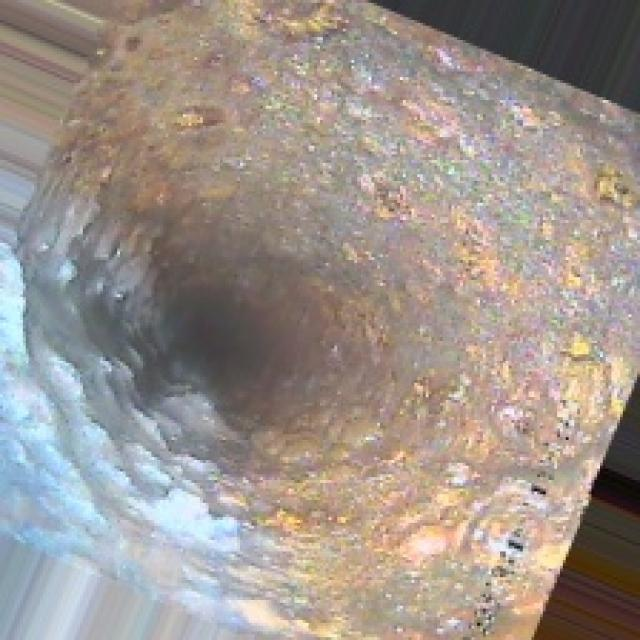encrustation: (23, 109, 454, 552)
